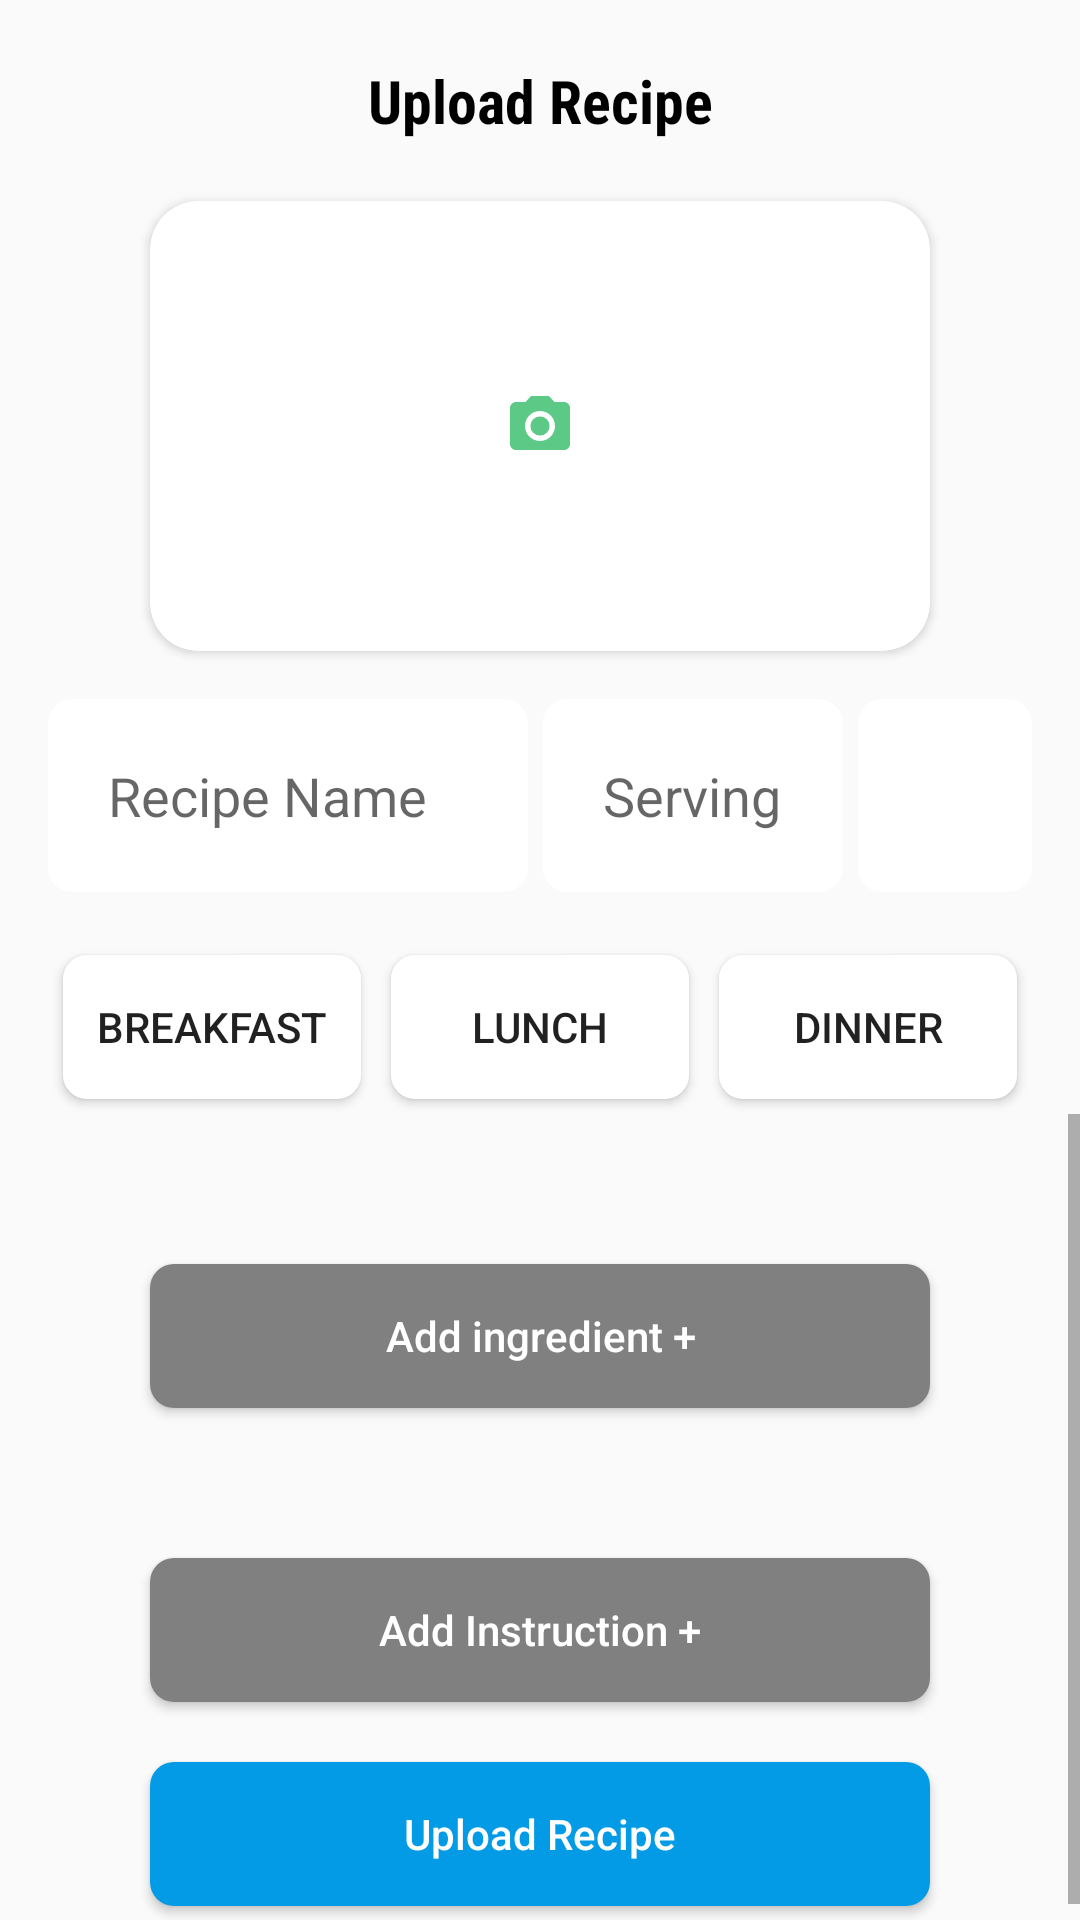

Icon bounding boxes for this 1080px×1920px phone screenshot, format box=[x1, y1, x2, y2]:
camera: box=[510, 396, 570, 450]
